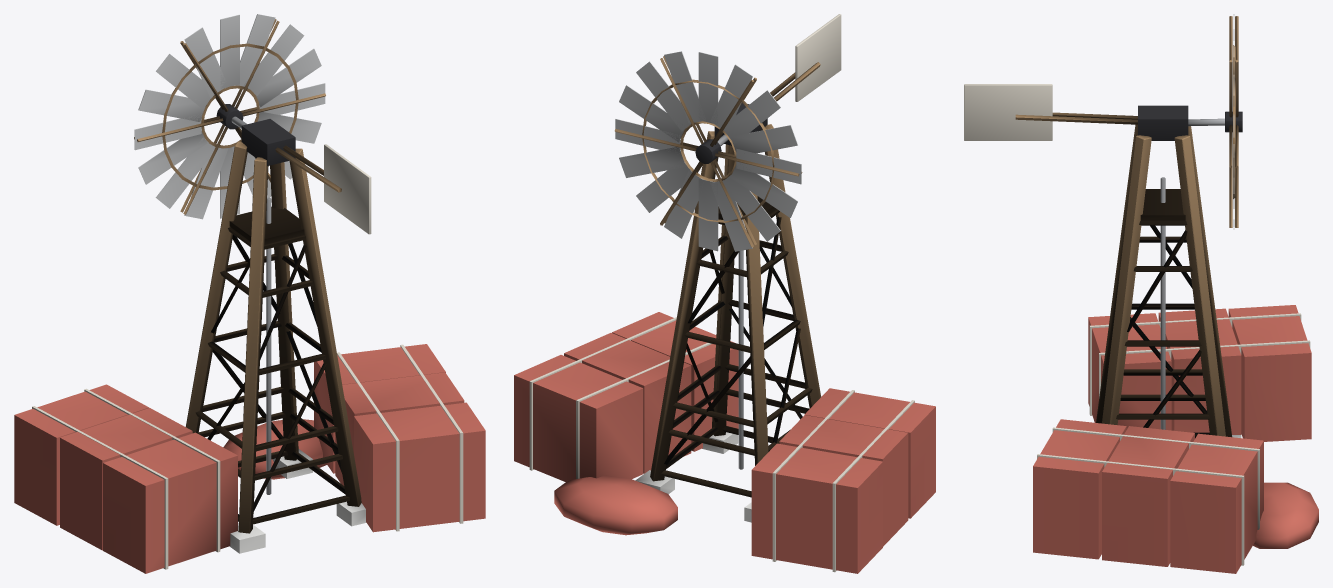
The model's file is windmill.glb.
3 views of the same model, side by side, from view 1: azimuth 30°, elevation 25°; view 2: azimuth 150°, elevation 25°; view 3: azimuth 270°, elevation 25° (orthographic). The views are drawn at different scales.
Visible parts, largest first — view 1: PART, N_spin_wheel; view 2: PART, N_spin_wheel; view 3: PART, N_spin_wheel.
Part boxes in pixels (bbox=[...]): PART: bbox=[14, 116, 485, 573]; N_spin_wheel: bbox=[134, 14, 325, 219]; PART: bbox=[514, 14, 935, 573]; N_spin_wheel: bbox=[614, 51, 802, 251]; PART: bbox=[964, 84, 1318, 573]; N_spin_wheel: bbox=[1225, 14, 1242, 229].
Size of the model in its own units: 2.94 by 3.56 by 2.41.
